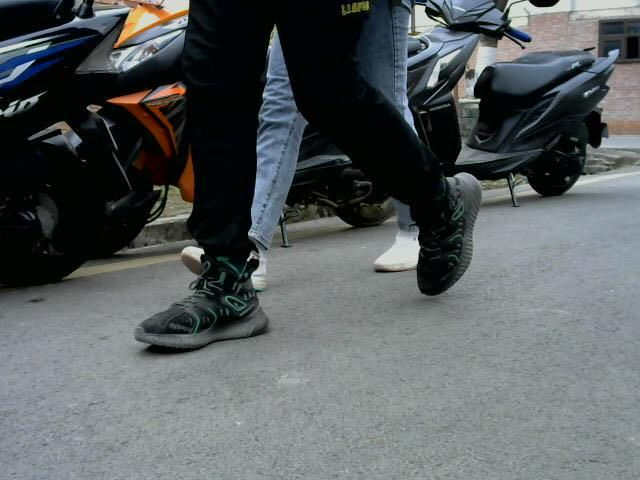Motorcycle: (405, 1, 610, 210), (2, 1, 109, 291)
Person: (142, 0, 522, 368)
Road: (0, 284, 640, 480)
